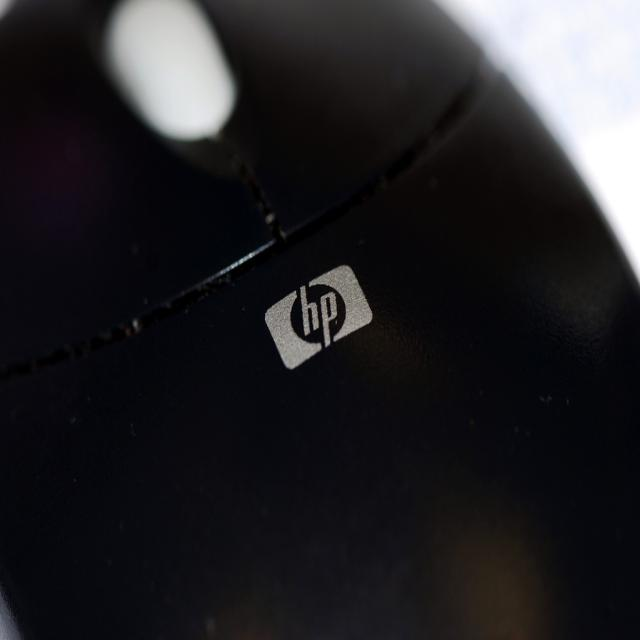HP: (260, 254, 379, 375)
